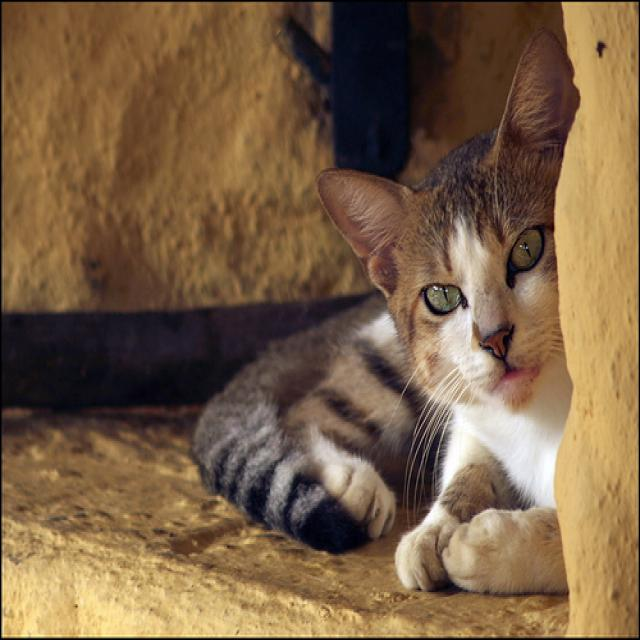cat: (190, 27, 581, 595)
